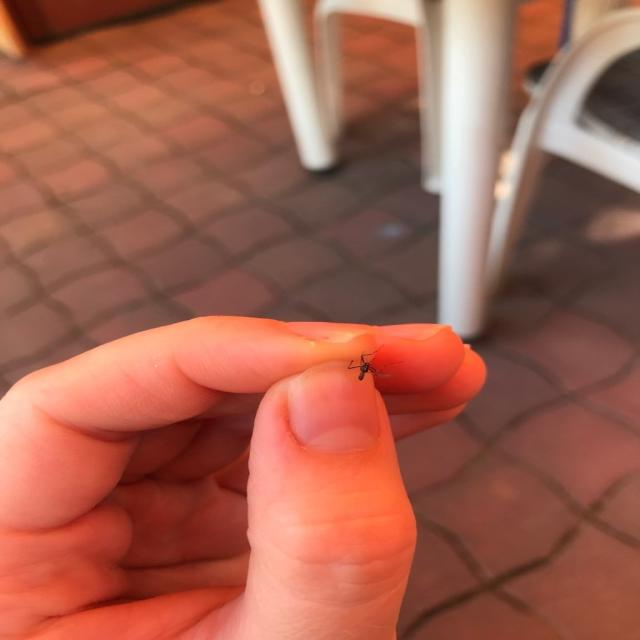albopictus: (342, 340, 398, 388)
